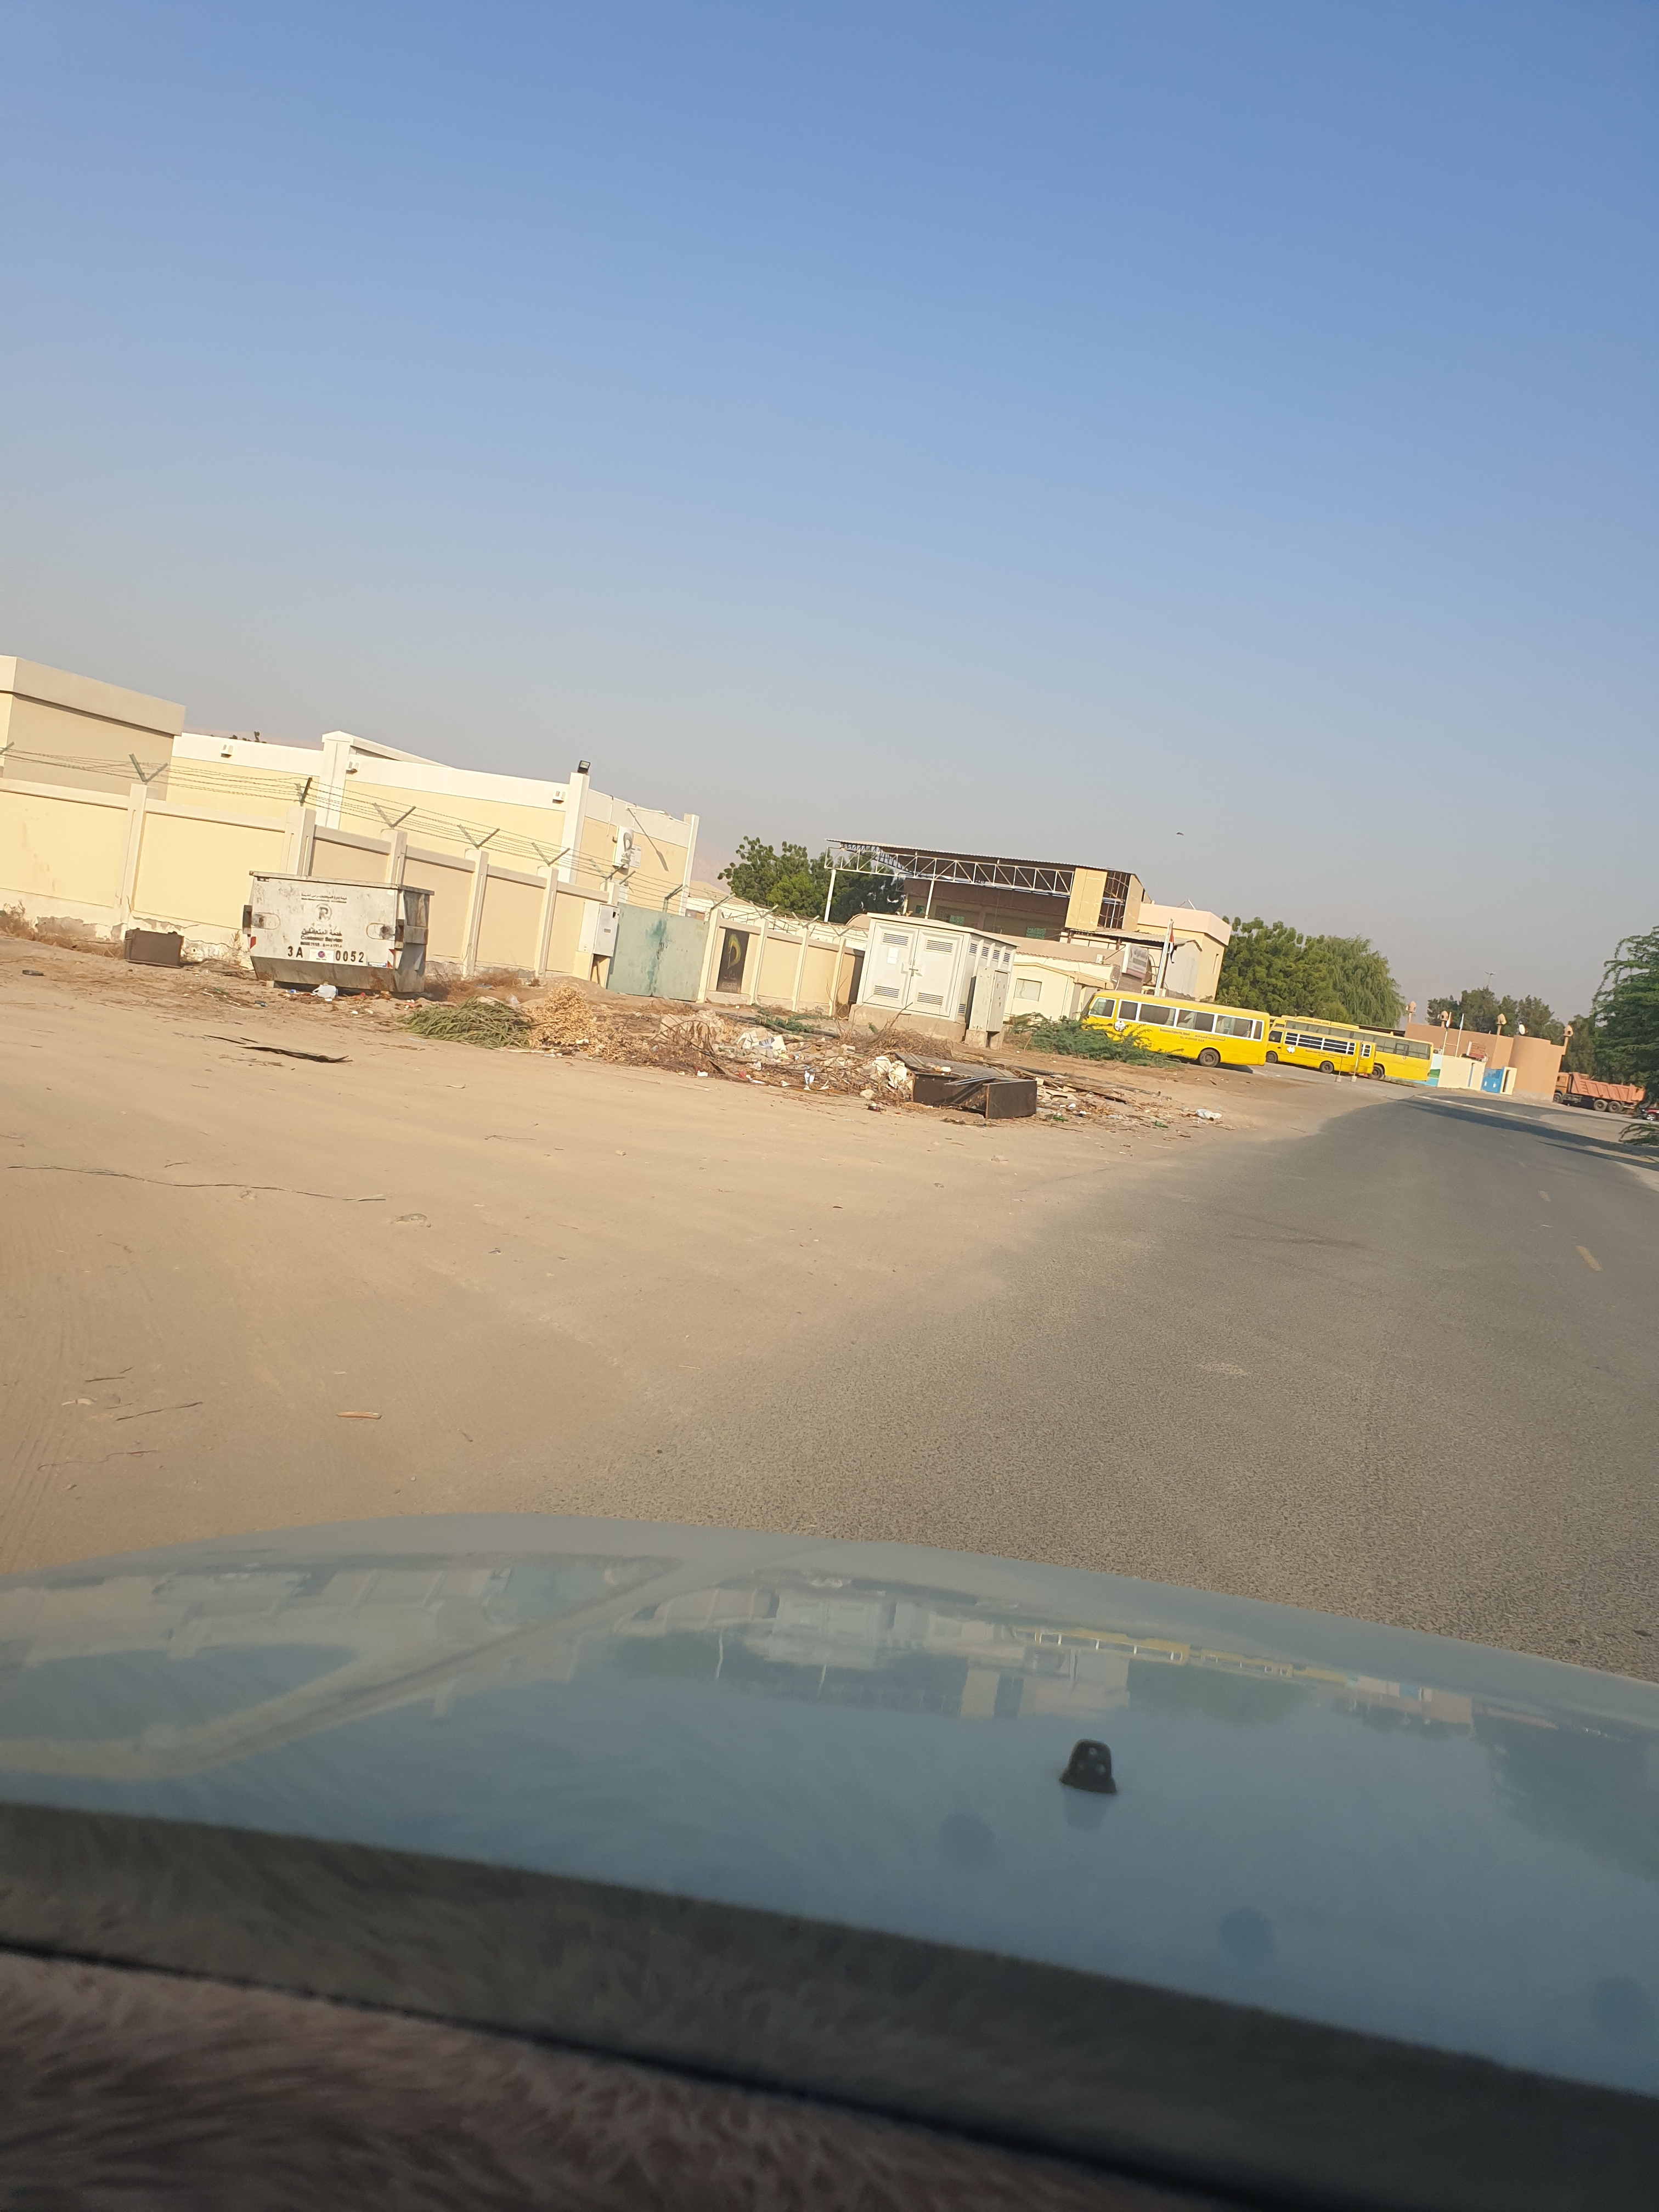fallen_trees: (399, 1000, 579, 1055), (627, 1029, 763, 1092), (544, 1017, 669, 1080), (748, 1054, 873, 1111)
uncollected_waste: (889, 1075, 1049, 1129)
